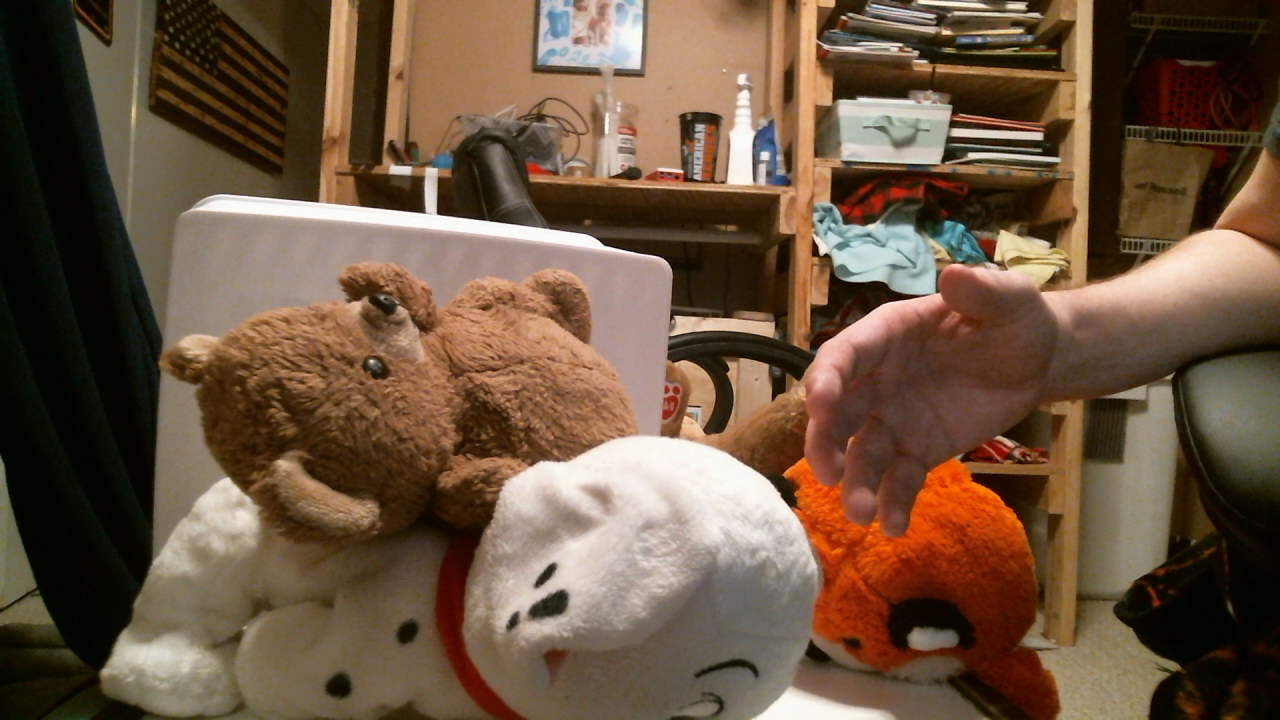Little_Mister_Bear: (316, 305, 424, 381)
